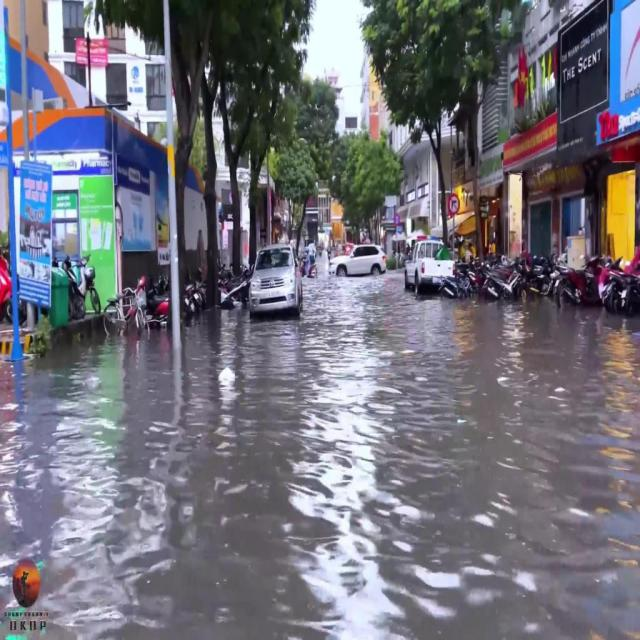cam_do_xe: (394, 214, 400, 227)
cam_re_trai: (448, 193, 460, 215)
